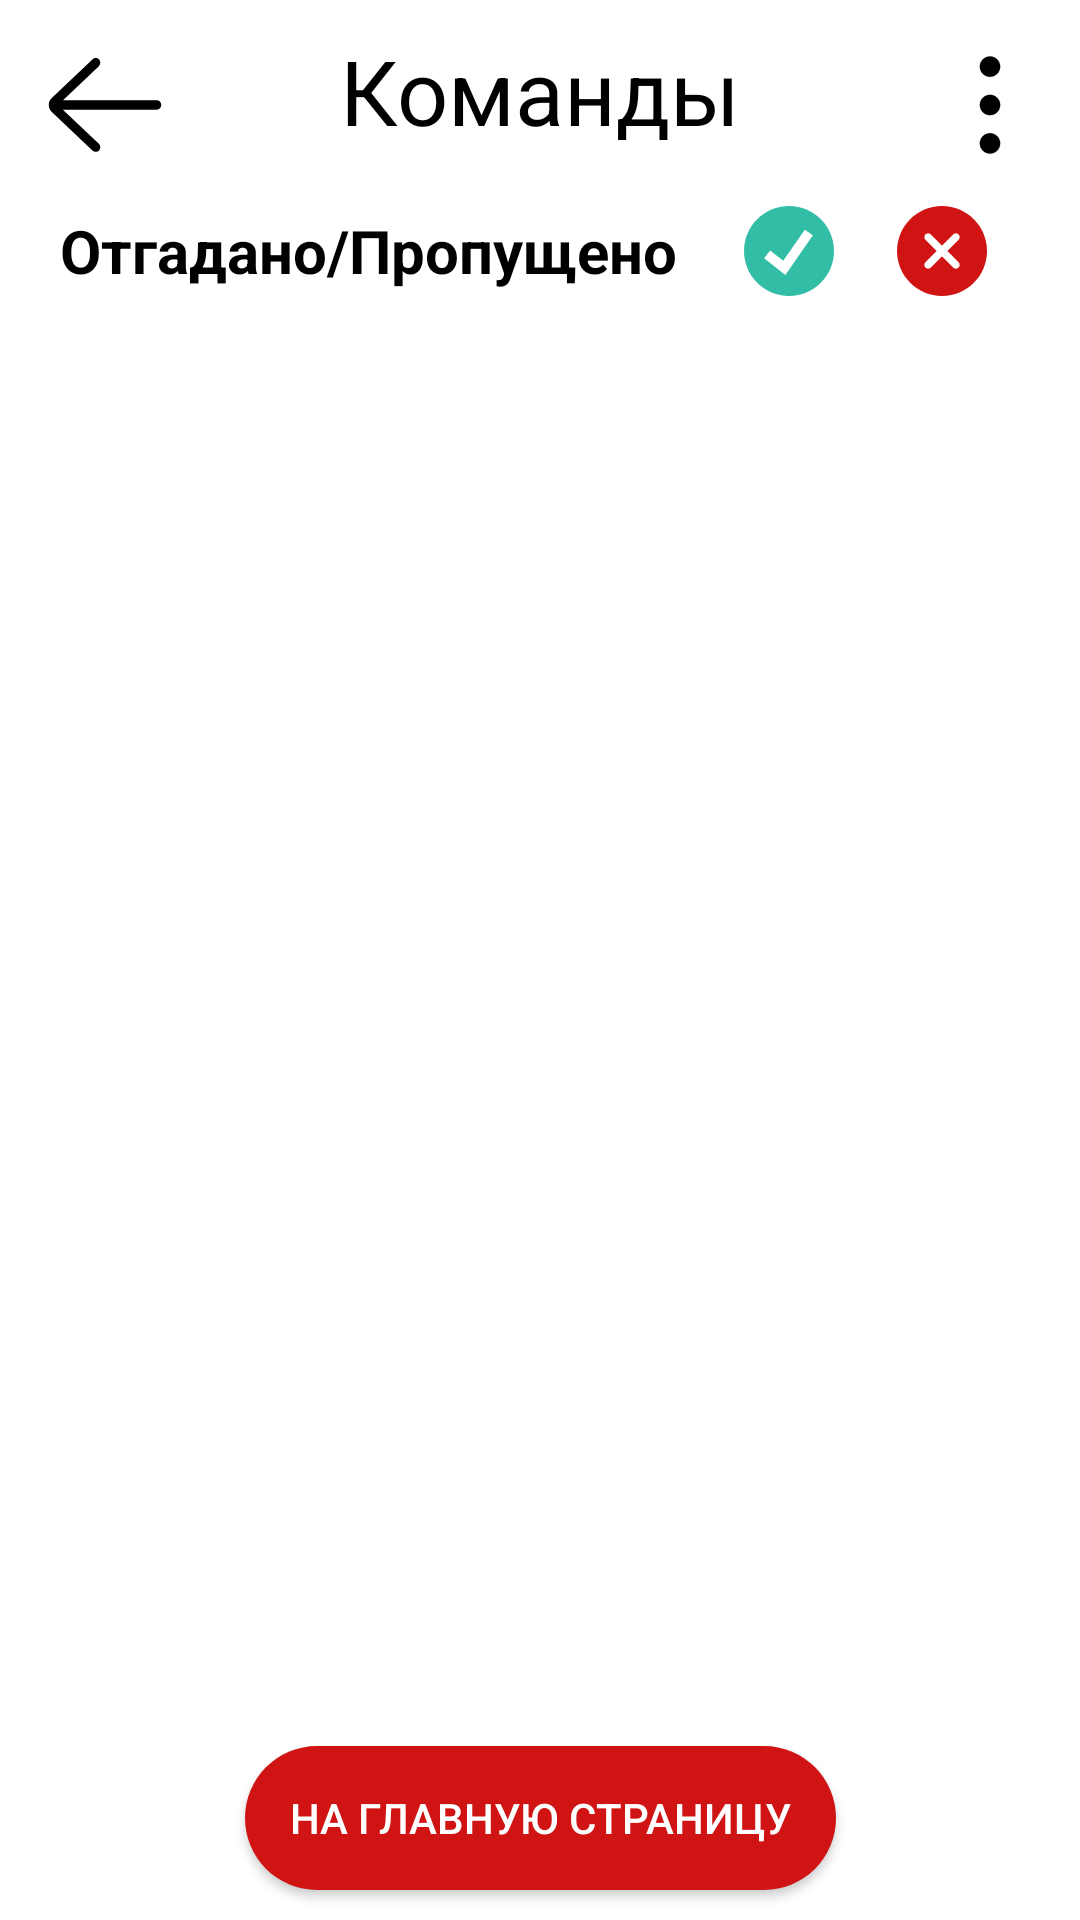

Where to tap for icons on this 1080w x 1920h app screen, as (x=x, y=y):
check: (x=789, y=251)
cross: (x=942, y=251)
